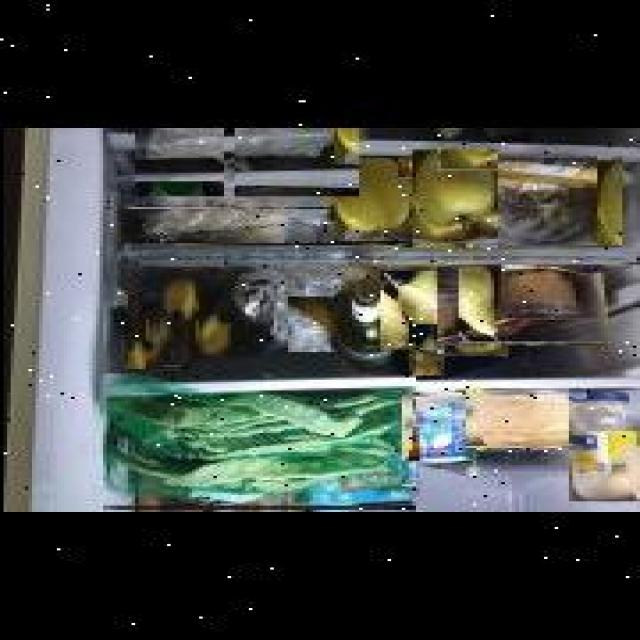apple: (409, 150, 494, 244), (331, 158, 409, 243), (395, 220, 469, 245)
banana: (124, 292, 178, 369), (158, 275, 194, 365), (195, 278, 228, 358)
bread: (231, 128, 356, 196)
broccoli: (355, 128, 473, 186)
cheese: (121, 207, 331, 243)
green_beans: (97, 373, 410, 508)
humus: (455, 264, 601, 344), (462, 388, 583, 448)
lemon: (284, 294, 330, 350)
mayonaise: (564, 388, 634, 499)
milk: (132, 128, 220, 196)
pear: (377, 269, 469, 348), (434, 265, 505, 354), (405, 326, 441, 376)
pineapple: (469, 157, 619, 246)
yogurt: (398, 392, 473, 461)
